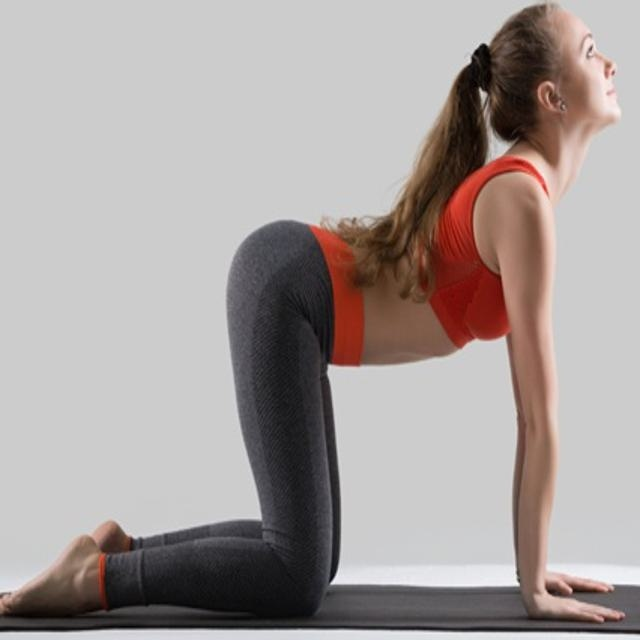Cow_Pose: (5, 4, 626, 625)
